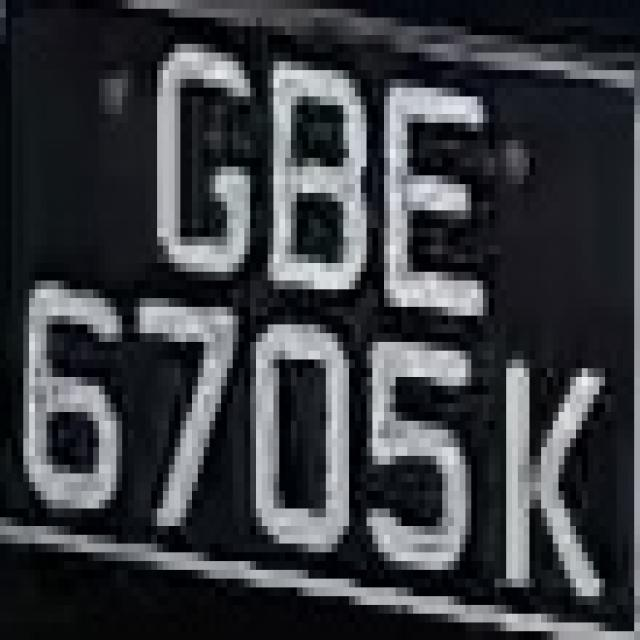0: (227, 316, 366, 544)
5: (349, 333, 477, 588)
6: (18, 246, 140, 544)
7: (128, 281, 221, 544)
B: (250, 53, 378, 333)
E: (366, 61, 494, 351)
G: (128, 26, 256, 316)
K: (489, 342, 611, 631)
